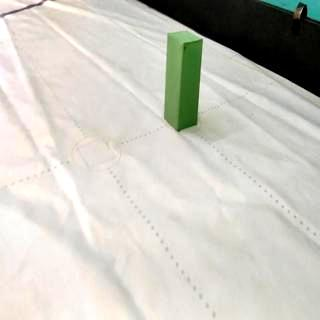greenbox: (162, 29, 204, 133)
